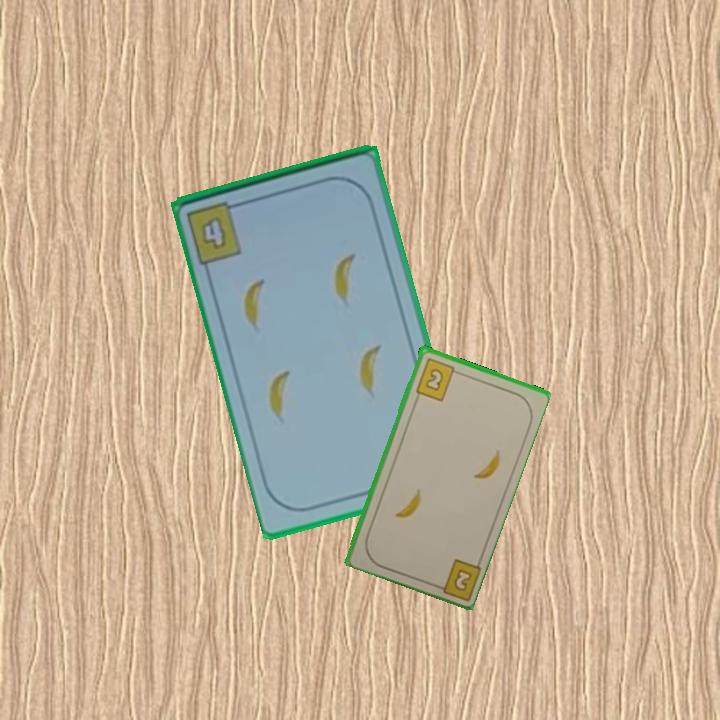2b: (429, 554, 483, 601), (412, 354, 463, 403)
4b: (183, 197, 248, 267)
